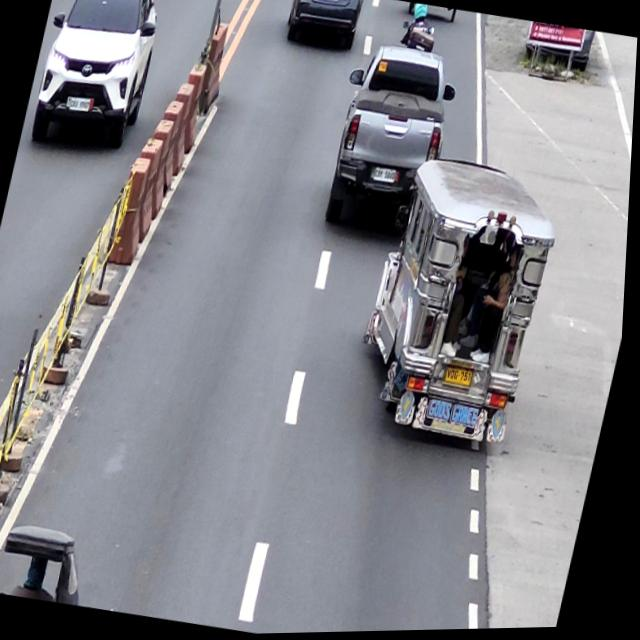Car: (318, 39, 465, 241), (281, 0, 366, 53)
Jeep: (349, 149, 572, 459)
License-Plate: (446, 366, 478, 390), (373, 165, 400, 188), (321, 0, 341, 4)
